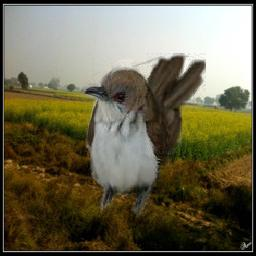Cuckoo: (82, 53, 206, 217)
